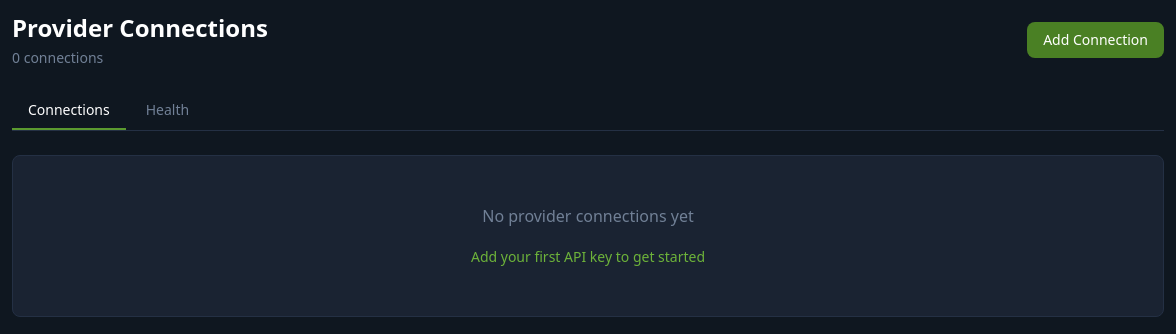
Scenario: ConnectionsClient Health Tab › shows empty state when no connections
Expected: the text "No provider connections yet" is shown, [482,205,694,227]
Click the button "Health" at x=167, y=111, box [130,92,205,130]
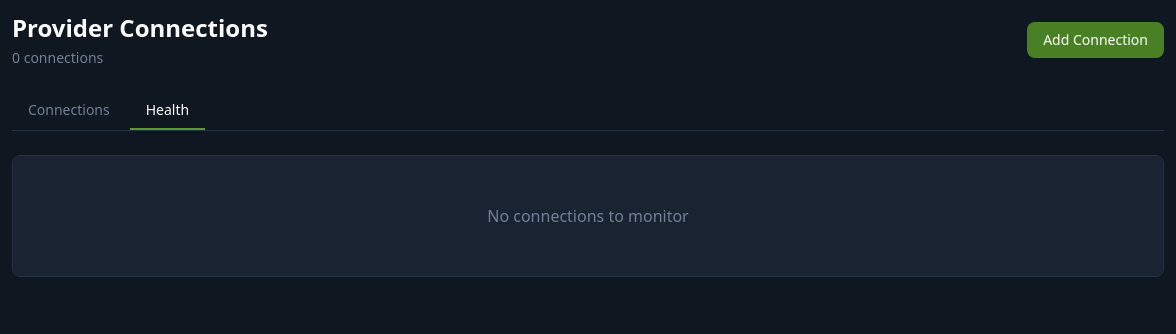
Now the text "No connections to monitor" is shown, box [487,205,689,227]
